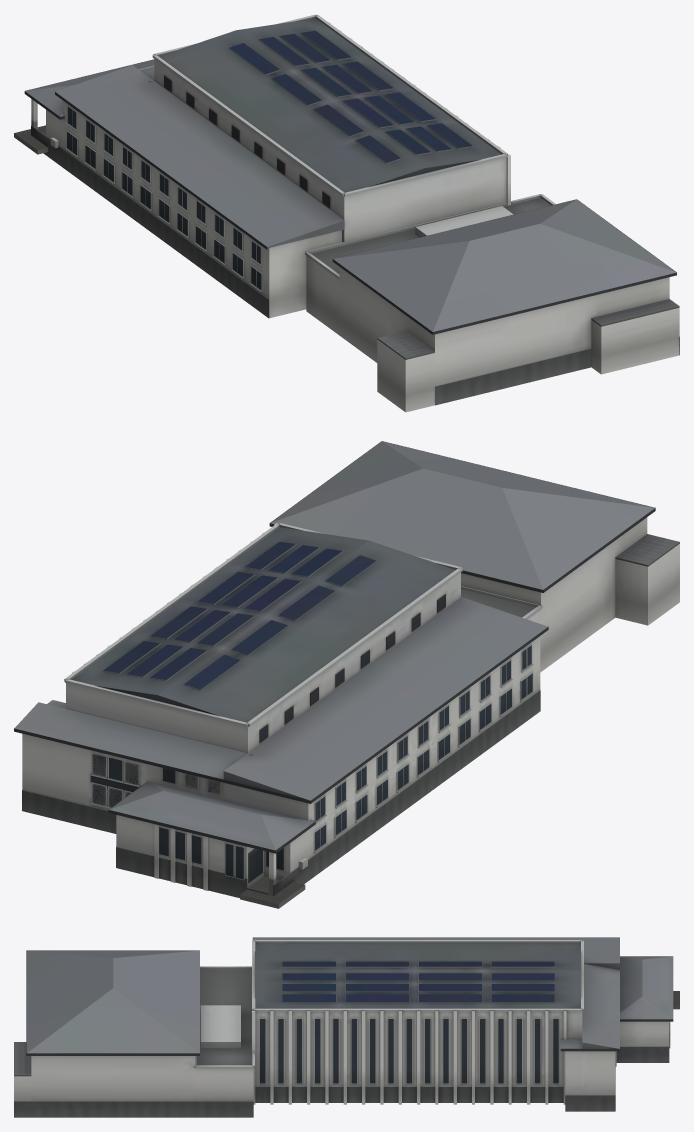
Rendered from sportas.glb.
3 views of the same model, one above another, from view 1: azimuth 30°, elevation 25°; view 2: azimuth 150°, elevation 25°; view 3: azimuth 270°, elevation 25° (orthographic). The views are drawn at different scales.
Visible parts, largest first — view 1: building; view 2: building; view 3: building.
Part boxes in pixels (bbox=[...]): building: bbox=[14, 14, 679, 412]; building: bbox=[14, 441, 679, 908]; building: bbox=[14, 937, 679, 1117].
Bounding box in the file's own units: 31.33 × 11.95 × 73.1.
Materials: 2 (2 with a texture image).
